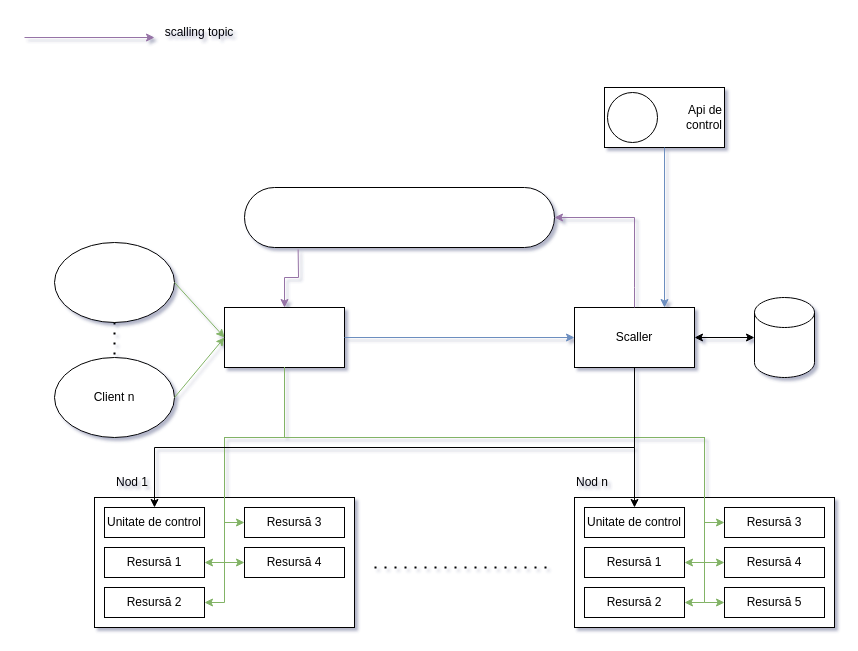
This 858x651 diagram has some shape labels left out. Here are the shapes that lost their labels. From the top down, the centre of each, then its label:
At (632,117): "UI".
At (399,217): "RabbitMQ".
At (114,282): "Client 1".
At (284,337): "Balancer".
At (784,337): "Postgress".
